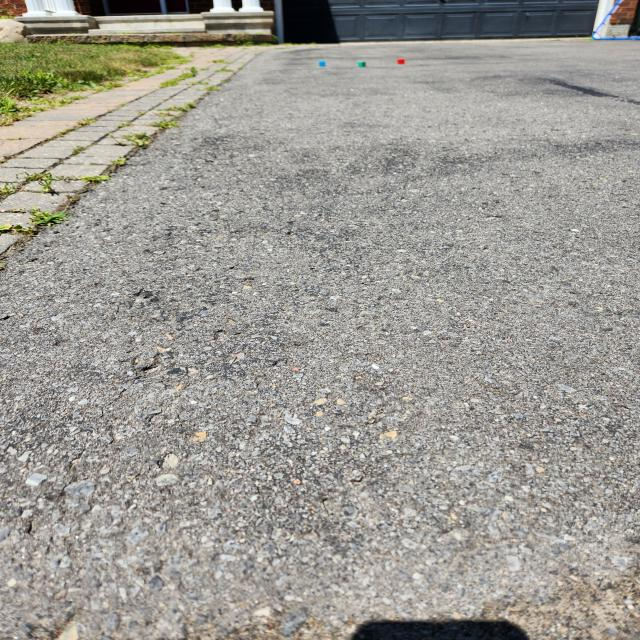bluecube: (319, 60, 326, 67)
green cube: (358, 61, 367, 67)
red cube: (398, 58, 406, 65)
